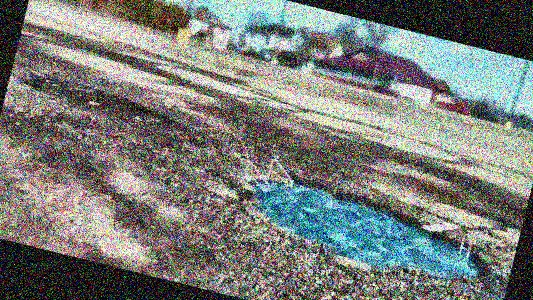pothole: (234, 163, 499, 291), (22, 67, 177, 129)
